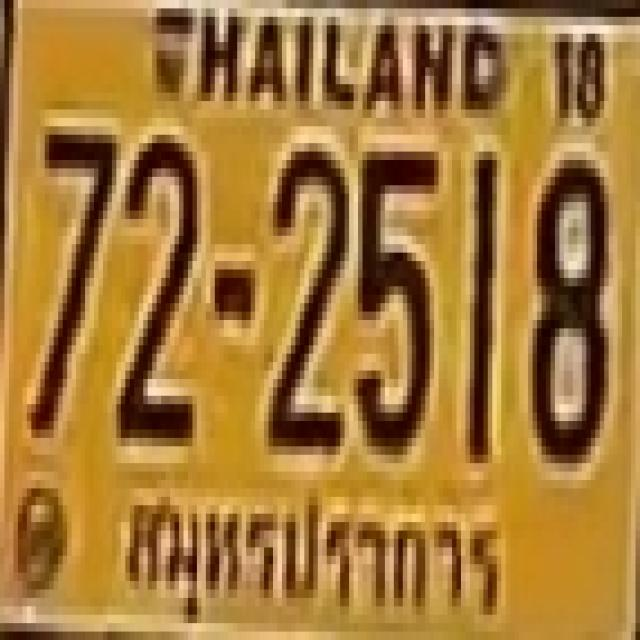1: (466, 147, 492, 459)
2: (114, 130, 195, 434), (268, 139, 344, 442)
5: (354, 143, 434, 446)
7: (31, 122, 112, 434), (38, 122, 114, 425)
8: (528, 152, 604, 454)
SPK: (115, 471, 510, 640)
